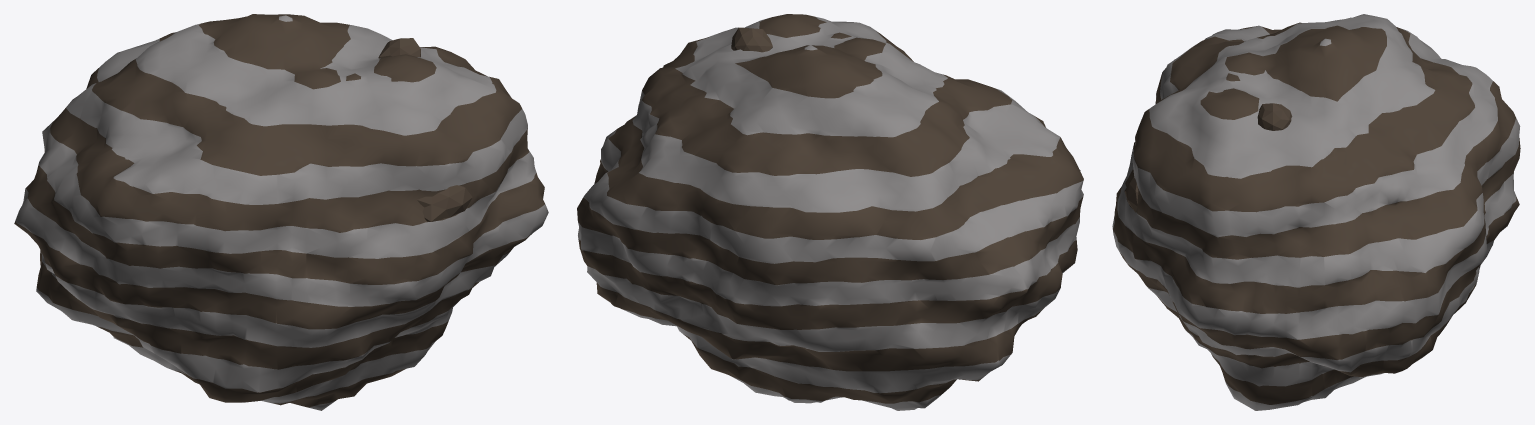
Rendered from lignite_surface.glb.
3 views of the same model, side by side, from view 1: azimuth 30°, elevation 25°; view 2: azimuth 150°, elevation 25°; view 3: azimuth 270°, elevation 25° (orthographic). The views are drawn at different scales.
Visible parts, largest first — view 1: lignite_surface; view 2: lignite_surface; view 3: lignite_surface.
Boxes of the visible parts, bbox=[...] form: lignite_surface: bbox=[14, 14, 548, 410]; lignite_surface: bbox=[577, 14, 1083, 410]; lignite_surface: bbox=[1112, 14, 1520, 410].
Bounding box in the file's own units: 1.43 × 1.09 × 1.15.
